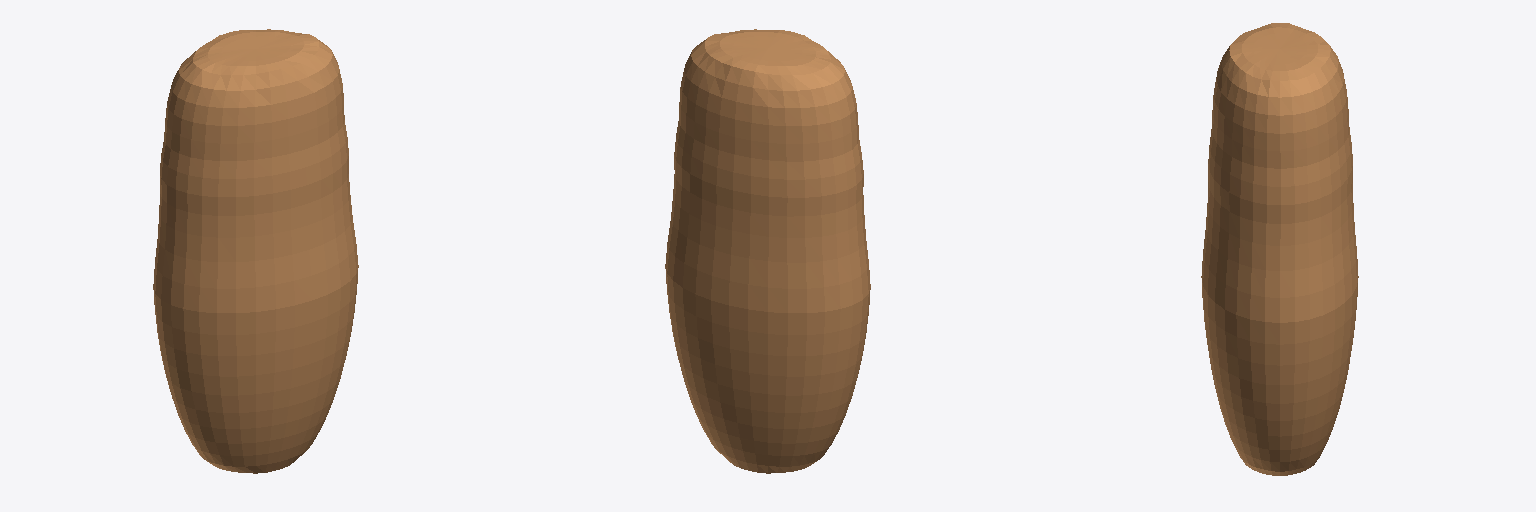
The model's file is PersonNaked.obj.
3 views of the same model, side by side, from view 1: azimuth 30°, elevation 25°; view 2: azimuth 150°, elevation 25°; view 3: azimuth 270°, elevation 25° (orthographic).
Parts seen in each view (by area): view 1: Sphere; view 2: Sphere; view 3: Sphere.
Boxes of the visible parts, box(x1,y1,x2,y2) form: Sphere: box(153, 29, 358, 473); Sphere: box(665, 29, 870, 473); Sphere: box(1201, 23, 1358, 475).
Size of the model in its own units: 1.33 by 2.79 by 0.9568.